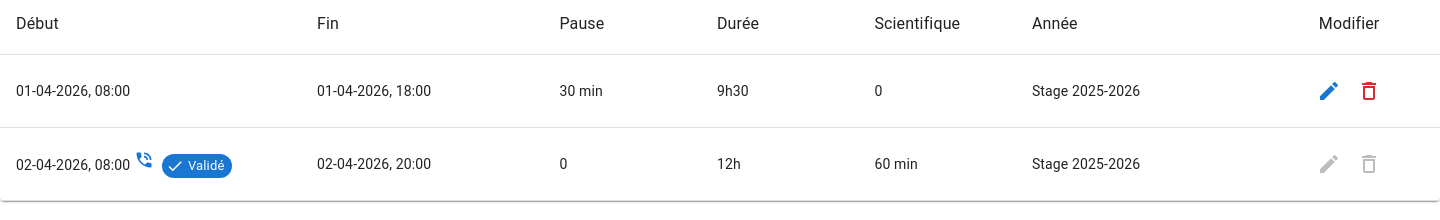
Test: Timesheet — suppression › retire la ligne immédiatement (optimiste) avant la réponse API
Check: the text "01-04-2026, 08:00" is shown, box 0,55 -> 301,128
Click the button named "supprimer" in the row of "01-04-2026, 08:00" at (1369, 91), box 1349,71 -> 1389,111
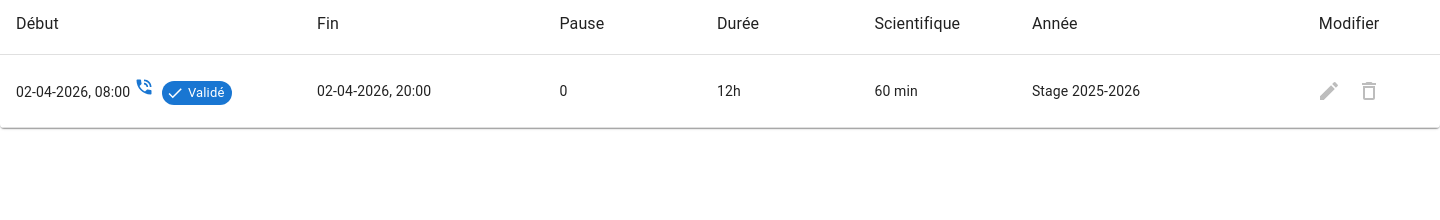
Check: the checkbox "01-04-2026, 08:00" is gone
